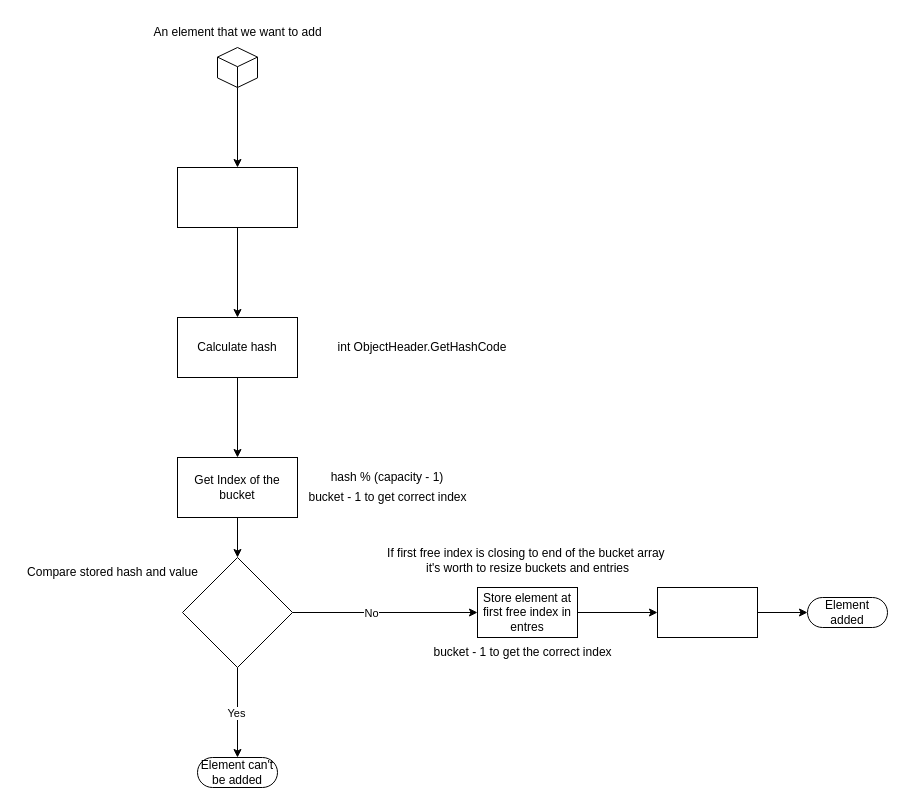
This 905x805 diagram has some shape labels left out. The box of each missing label's shape, as (x1, y1, x2, y2) in pixels:
Add invocation: (176, 166, 298, 228)
Is element with the same hash is present: (182, 556, 292, 668)
Set value under bucket index to entry index: (656, 586, 758, 638)
